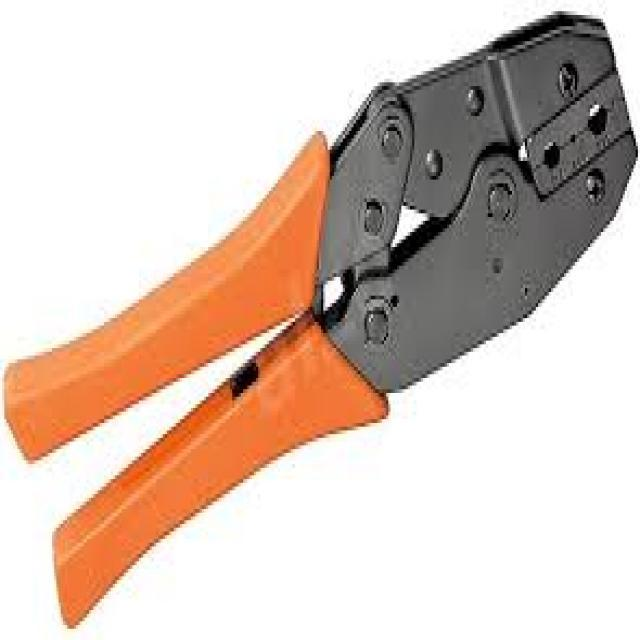pliers: (2, 9, 640, 626)
